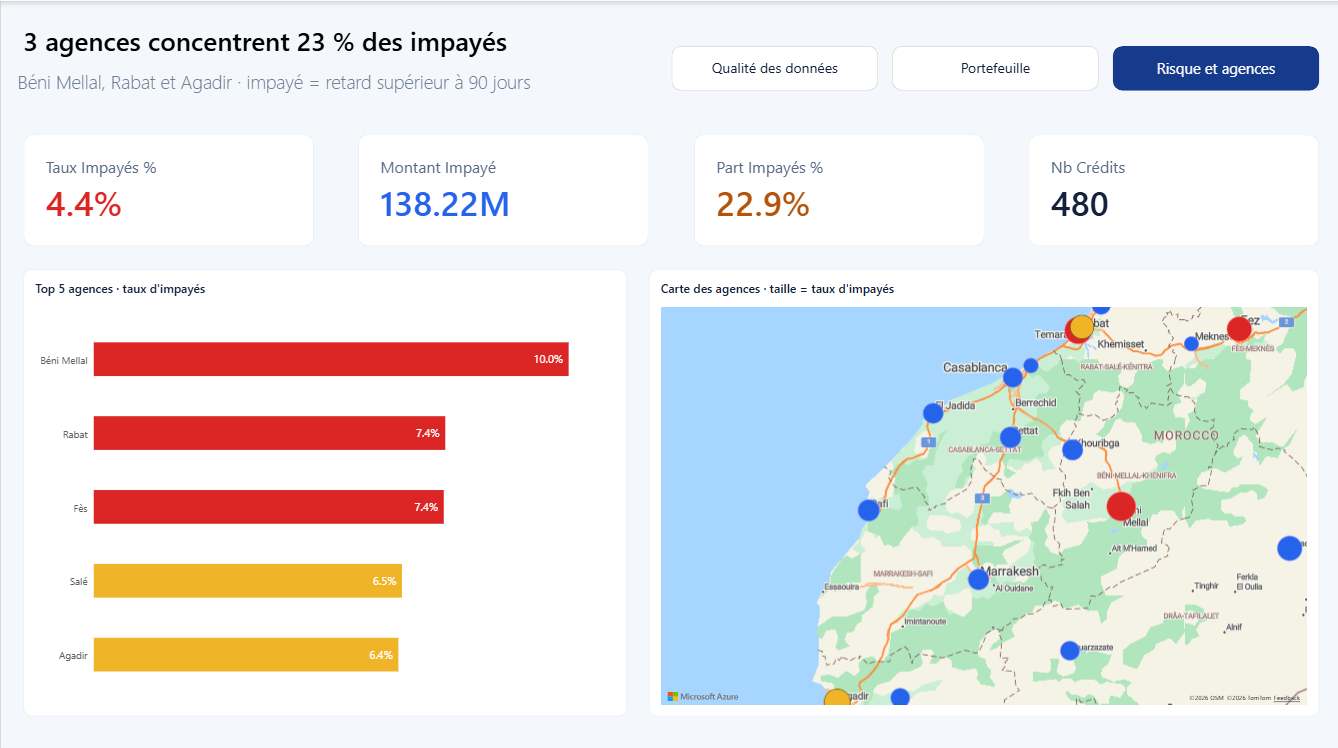

The page's visual inventory and layout, read from the dashboard file:
{"tool":"powerbi","page":{"name":"Risque et agences","canvas":[1920,1080],"ordinal":2},"visuals":[{"type":"pageNavigator","box":[960,64,928,64],"z":0},{"type":"textbox","box":[32,32,864,64],"z":1000},{"type":"textbox","box":[24,96,840,48],"z":2000},{"type":"cardVisual","fields":{"Data":["_Mesures.Montant Impayé"]},"box":[512,192,416,160],"z":3000},{"type":"cardVisual","fields":{"Data":["_Mesures.Taux Impayés %"]},"box":[32,192,416,160],"z":4000},{"type":"cardVisual","fields":{"Data":["_Mesures.Part Impayés %"]},"box":[992,192,416,160],"z":5000},{"type":"cardVisual","fields":{"Data":["_Mesures.Nb Crédits"]},"box":[1472,192,416,160],"z":6000},{"type":"barChart","title":"Top 5 agences · taux d''impayés","fields":{"Category":["Agences.ville_agence"],"Y":["_Mesures.Taux Impayés %"]},"box":[32,384,864,640],"z":7000},{"type":"azureMap","title":"Carte des agences · taille = taux d''impayés","fields":{"Category":["Agences.ville_agence"],"Size":["_Mesures.Montant Impayé"],"X":["Avg(Agences.longitude)"],"Y":["Avg(Agences.latitude)"]},"box":[928,384,960,640],"z":8000}]}

Visuals, with their boxes in screenshot pixels (x1, y1, x2, y2), scaled from the page's 1920x1080 canvas onto the 1338x748 screenshot:
pageNavigator: rect(669, 44, 1316, 89)
textbox: rect(22, 22, 624, 66)
textbox: rect(17, 66, 602, 100)
cardVisual - _Mesures.Montant Impayé: rect(357, 133, 647, 244)
cardVisual - _Mesures.Taux Impayés %: rect(22, 133, 312, 244)
cardVisual - _Mesures.Part Impayés %: rect(691, 133, 981, 244)
cardVisual - _Mesures.Nb Crédits: rect(1026, 133, 1316, 244)
"Top 5 agences · taux d''impayés" barChart: rect(22, 266, 624, 709)
"Carte des agences · taille = taux d''impayés" azureMap: rect(647, 266, 1316, 709)
